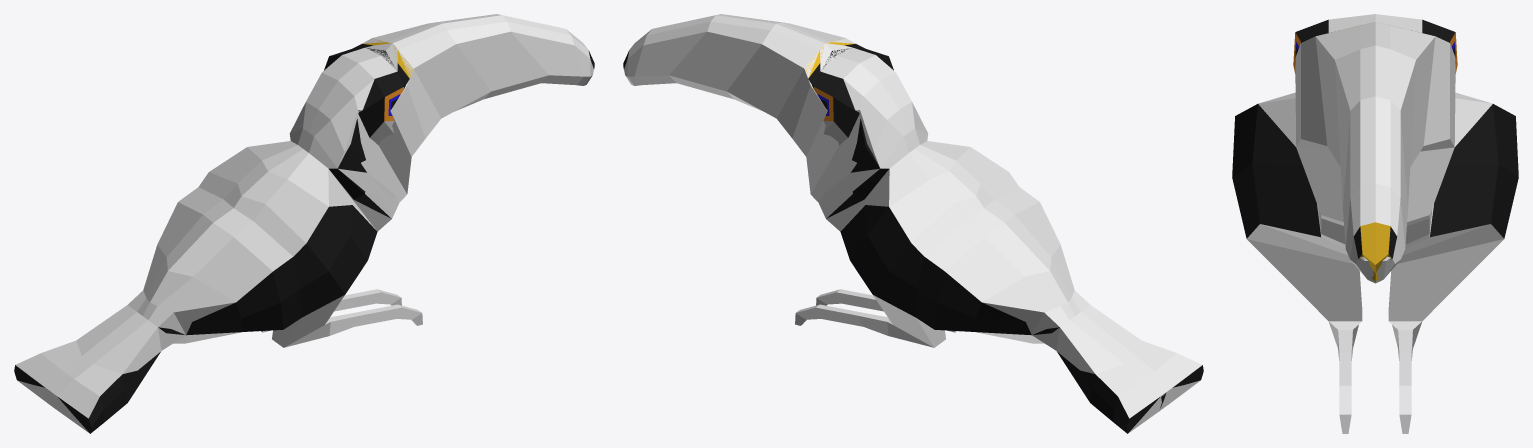
File: TUKAN01.fbx
3 views of the same model, side by side, from view 1: azimuth 30°, elevation 25°; view 2: azimuth 150°, elevation 25°; view 3: azimuth 270°, elevation 25° (orthographic). The views are drawn at different scales.
Visible parts, largest first — view 1: tukan, TUKAN WE WORK ON; view 2: tukan, TUKAN WE WORK ON; view 3: tukan, TUKAN WE WORK ON.
Part boxes in pixels (box(x1,y1,x2,y2)): tukan: box(15, 14, 594, 433); TUKAN WE WORK ON: box(14, 38, 594, 433); tukan: box(623, 14, 1202, 433); TUKAN WE WORK ON: box(623, 38, 1203, 433); tukan: box(1247, 14, 1503, 433); TUKAN WE WORK ON: box(1232, 19, 1518, 281).
Size of the model in its own units: 321 by 164 by 102.
